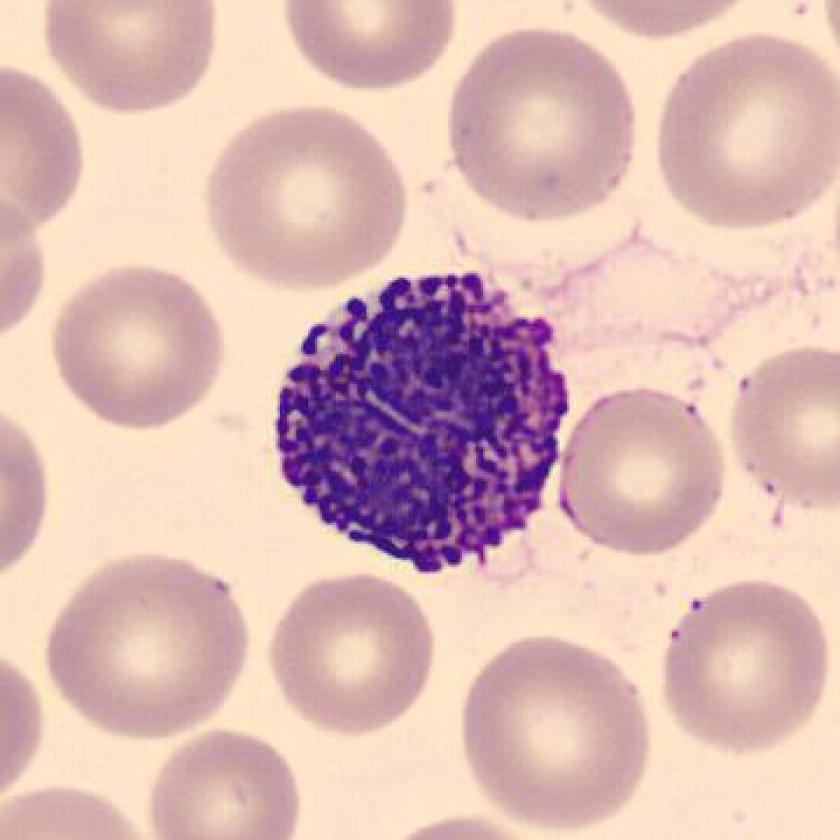basophil: (267, 267, 577, 575)
